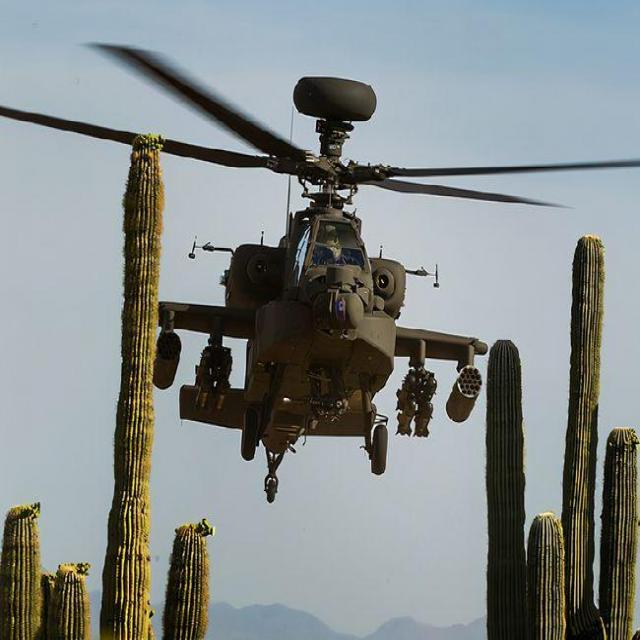MIL_HELO: (16, 27, 640, 513)
